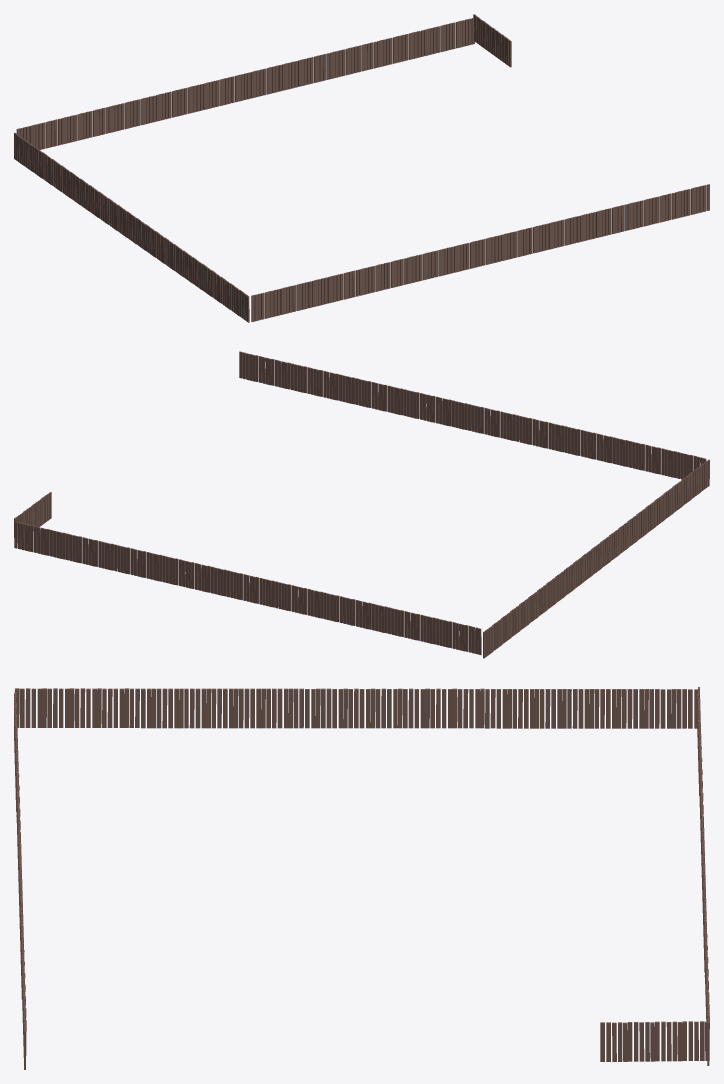
File: TPCS_Zaun_001.fbx
The picture shows the model from 3 angles, top to bottom: view 1: azimuth 30°, elevation 25°; view 2: azimuth 150°, elevation 25°; view 3: azimuth 270°, elevation 25°; orthographic projection. The views are drawn at different scales.
Parts seen in each view (by area): view 1: Cube.005; view 2: Cube.005; view 3: Cube.005.
Part boxes in pixels (x1,y1,x2,y2): Cube.005: [14, 14, 709, 322]; Cube.005: [14, 351, 709, 658]; Cube.005: [14, 687, 709, 1069].
Bounding box in the file's own units: 1617 × 96.16 × 1393.
